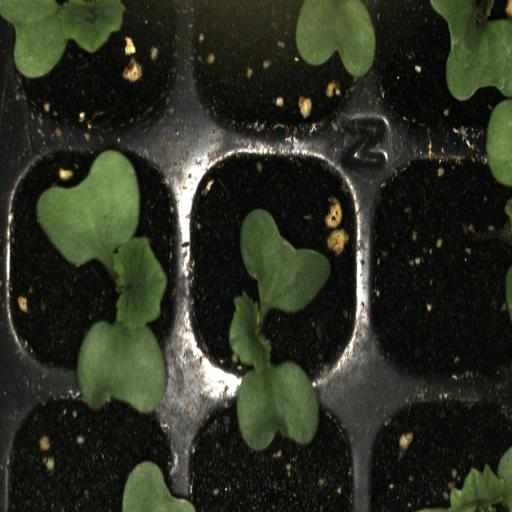Folha: (430, 0, 512, 187), (292, 0, 379, 80), (444, 448, 512, 512), (122, 461, 196, 512)
Germinacao: (183, 140, 362, 390), (1, 142, 181, 381)
